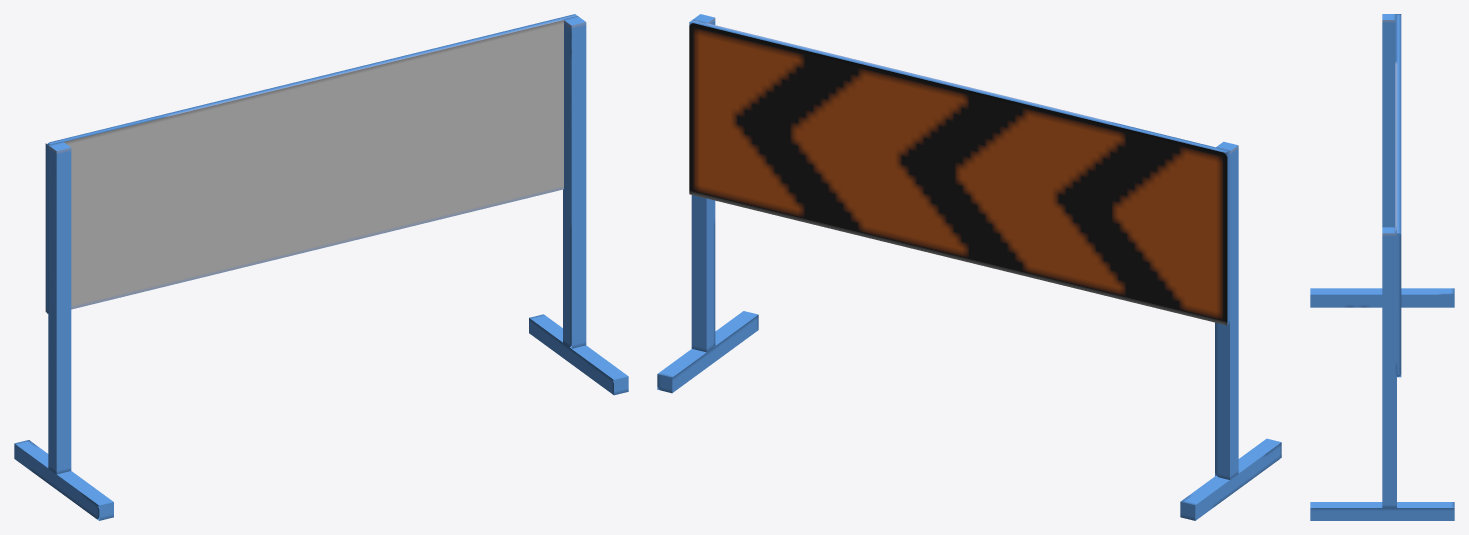
Rendered from construction_left_guided.obj.
3 views of the same model, side by side, from view 1: azimuth 30°, elevation 25°; view 2: azimuth 150°, elevation 25°; view 3: azimuth 270°, elevation 25° (orthographic). The views are drawn at different scales.
Visible parts, largest first — view 1: cube; view 2: cube; view 3: cube.
Boxes of the visible parts, x1,y1,x2,y2 form: cube: (14, 14, 628, 520); cube: (657, 14, 1281, 520); cube: (1310, 14, 1454, 520).
Size of the model in its own units: 2.25 by 1.38 by 0.625.
Materials: 1 (1 with a texture image).
